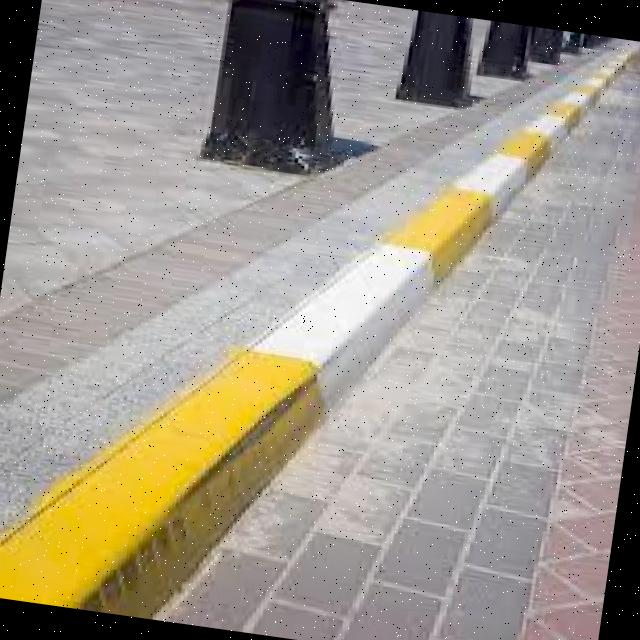curb: (1, 421, 302, 638), (144, 275, 385, 513), (306, 165, 477, 341), (449, 135, 538, 235), (528, 80, 577, 147), (564, 73, 612, 119)
